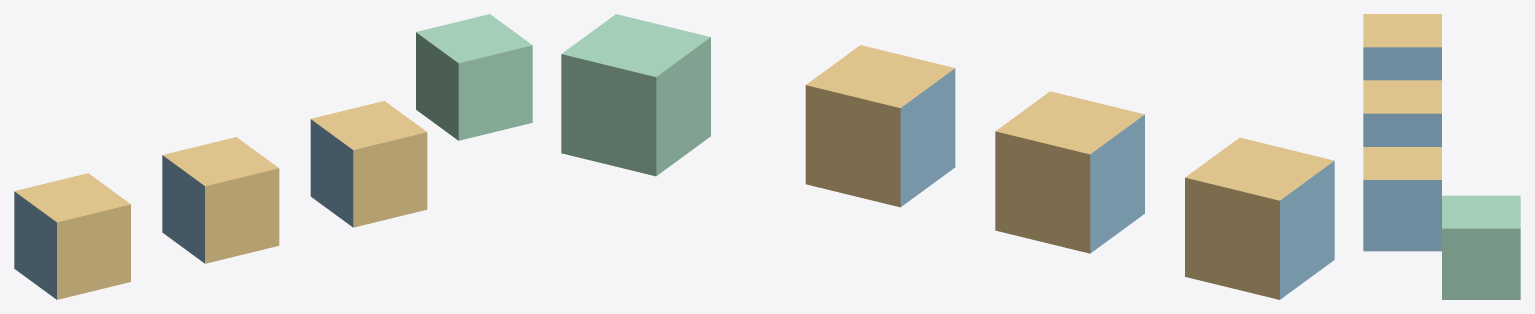
3 renders of one model, left to right at view 1: azimuth 30°, elevation 25°; view 2: azimuth 150°, elevation 25°; view 3: azimuth 270°, elevation 25°, orthographic. The views are drawn at different scales.
Parts seen in each view (by area): view 1: Pump Instance B, Pump Instance A, Buffer Tank, Primary Pump; view 2: Pump Instance B, Buffer Tank, Primary Pump, Pump Instance A; view 3: Buffer Tank, Pump Instance B, Primary Pump, Pump Instance A.
Boxes of the visible parts, x1,y1,x2,y2 form: Pump Instance B: [310, 101, 427, 227]; Pump Instance A: [162, 137, 279, 263]; Buffer Tank: [416, 14, 532, 140]; Primary Pump: [14, 173, 130, 299]; Pump Instance B: [805, 45, 955, 207]; Buffer Tank: [561, 14, 710, 176]; Primary Pump: [1185, 137, 1334, 299]; Pump Instance A: [995, 91, 1144, 253]; Buffer Tank: [1442, 195, 1520, 299]; Pump Instance B: [1363, 147, 1441, 251]; Primary Pump: [1363, 14, 1441, 80]; Pump Instance A: [1363, 80, 1441, 146].
Size of the model in its own units: 7 by 1.25 by 2.
